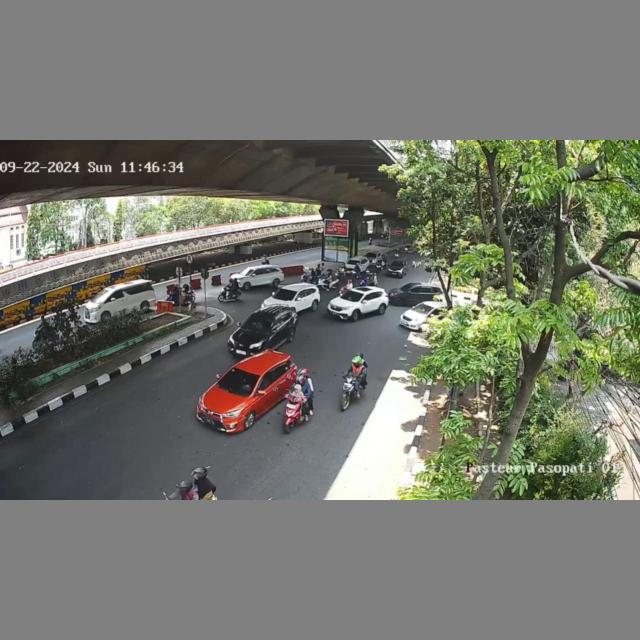windshield: (219, 366, 261, 395), (242, 313, 275, 334), (272, 289, 296, 302), (341, 290, 363, 301)
